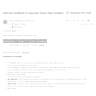

What the dashboard file says about the page in this screenshot:
{"tool":"powerbi","page":{"name":"Page 1","canvas":[1280,720],"ordinal":0},"visuals":[{"type":"group","id":"g1","title":"Group 2","box":[321.7,0,943.3,249.2],"z":0},{"type":"cardVisual","fields":{"Data":["Course.Total Courses"]},"box":[321.9,0,237.7,124.9],"z":0,"group":"g1"},{"type":"slicer","fields":{"Values":["Trainer.TrainerName"]},"box":[34.3,174.2,279.7,150],"z":0,"group":"g2"},{"type":"cardVisual","fields":{"Data":["Course.Total Mocks"]},"box":[549.9,0,238.4,124.9],"z":1000,"group":"g1"},{"type":"textbox","box":[25.4,36.9,296.2,50.9],"z":1000},{"type":"slicer","fields":{"Values":["Course.CourseName"]},"box":[34.3,339.5,279.7,255.5],"z":1000,"group":"g2"},{"type":"cardVisual","fields":{"Data":["Course.Trainer-Course Validated"]},"box":[788.3,0,238.4,124.9],"z":2000,"group":"g1"},{"type":"group","id":"g2","title":"Group 1","box":[34.3,174.2,279.7,507.3],"z":2000},{"type":"slicer","fields":{"Values":["TrainerCourseMapping.MappingStatus"]},"box":[34.3,610.3,279.7,71.2],"z":2000,"group":"g2"},{"type":"cardVisual","fields":{"Data":["Course.Avg Mocks per Trainer-Course"]},"box":[1026.7,0,238.4,124.9],"z":3000,"group":"g1"},{"type":"pivotTable","fields":{"Rows":["Trainer.TrainerName","Course.CourseName"],"Values":["Course.Total Mocks","Course.Latest Activity Type","Course.Latest Mock Summary"]},"box":[338.2,249.2,942.1,443.7],"z":3000},{"type":"cardVisual","fields":{"Data":["Course.Latest Mock Rating"]},"box":[321.7,124.6,943.3,124.6],"z":4000,"group":"g1"}]}

Visuals, with their boxes on the page's 1280x720 design canvas (x1, y1, x2, y2). These are canvas units, not pixel positions in the 96x96 screenshot, which may show the page scaled, cropped or inside an application window:
"Group 2" group: [322,0,1265,249]
cardVisual - Course.Total Courses: [322,0,560,125]
slicer - Trainer.TrainerName: [34,174,314,324]
cardVisual - Course.Total Mocks: [550,0,788,125]
textbox: [25,37,322,88]
slicer - Course.CourseName: [34,340,314,595]
cardVisual - Course.Trainer-Course Validated: [788,0,1027,125]
"Group 1" group: [34,174,314,682]
slicer - TrainerCourseMapping.MappingStatus: [34,610,314,682]
cardVisual - Course.Avg Mocks per Trainer-Course: [1027,0,1265,125]
pivotTable - Trainer.TrainerName x Course.CourseName: [338,249,1280,693]
cardVisual - Course.Latest Mock Rating: [322,125,1265,249]
